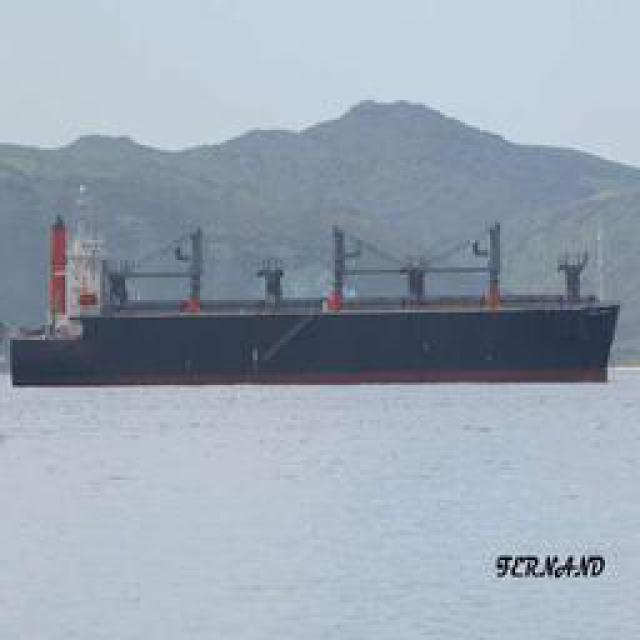Ship: (32, 286, 620, 384)
